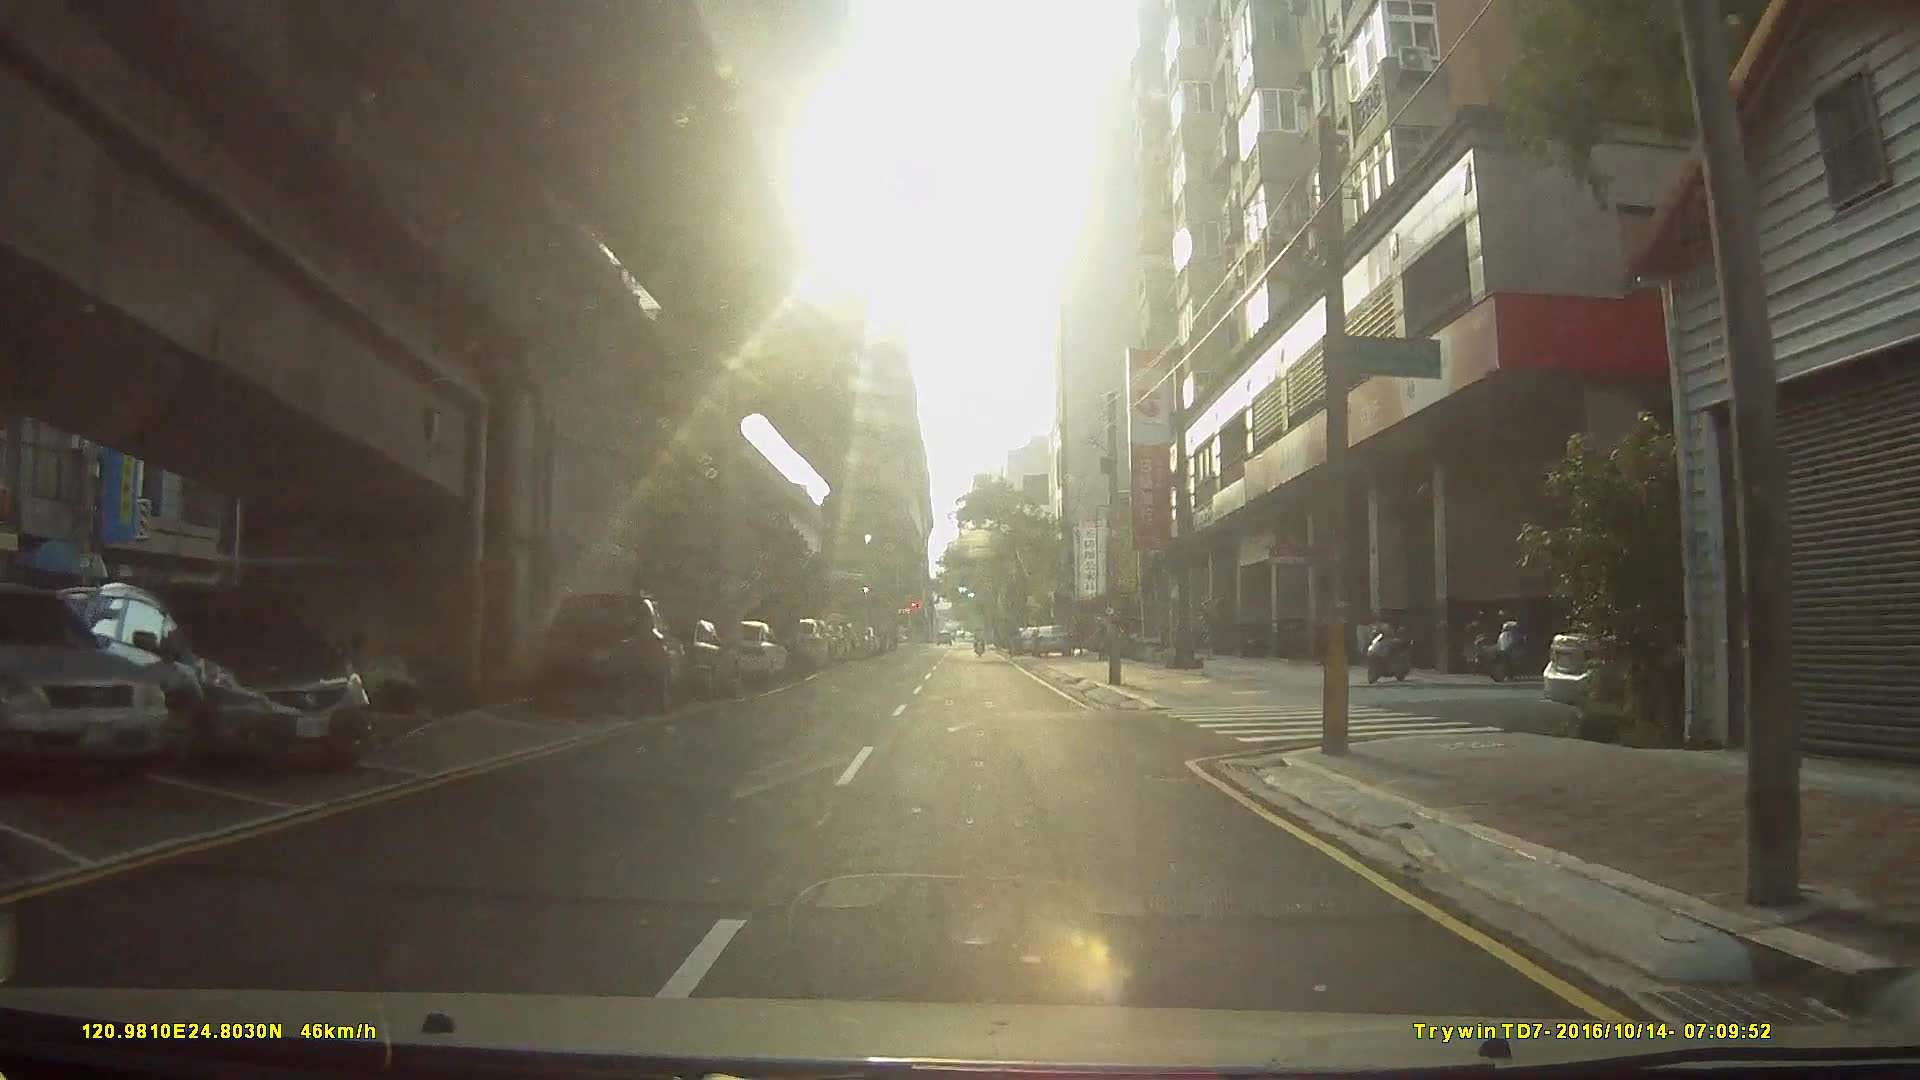vehicle: (59, 578, 369, 771), (0, 584, 167, 783), (539, 588, 688, 708), (1029, 621, 1069, 655)
